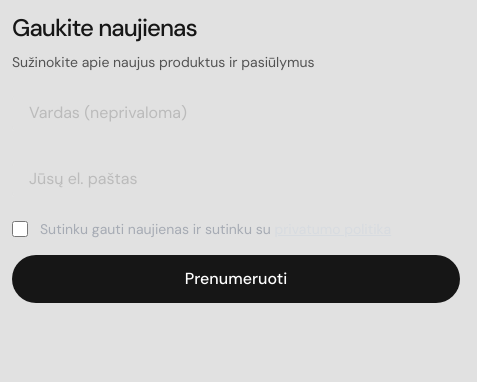
Test: NewsletterSignup › clears form after successful submission
Type "Jonas" into the field with placeholder "Vardas (neprivaloma)". click: (236, 113)
box: [12, 88, 460, 138]
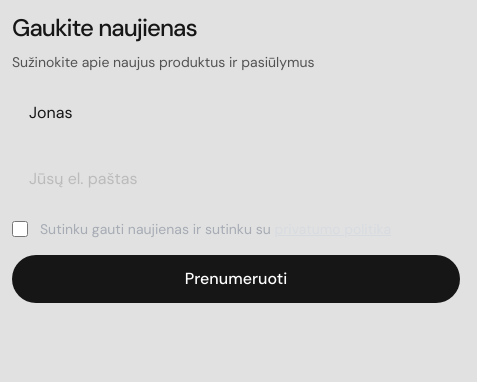
Type "test@example.com" into the field with placeholder "Jūsų el. paštas". click: (236, 179)
box: [12, 154, 460, 204]
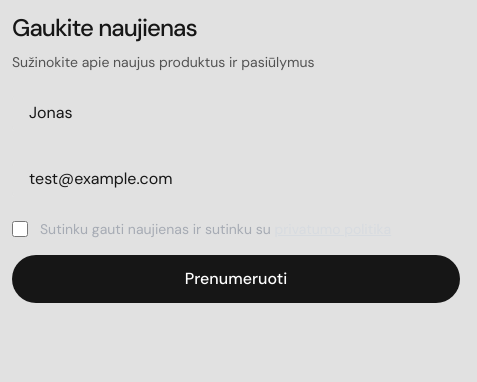
Click the checkbox. click: (20, 229)
box: [12, 221, 28, 237]
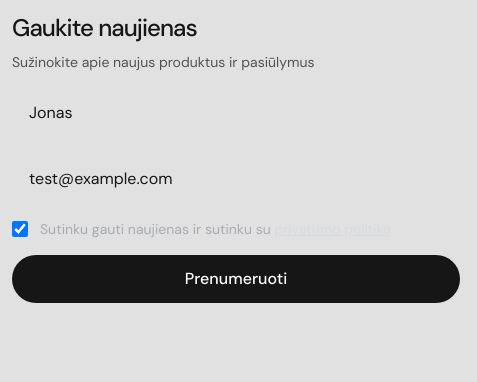
Click the button "Prenumeruoti". click: (236, 279)
box: [12, 255, 460, 303]
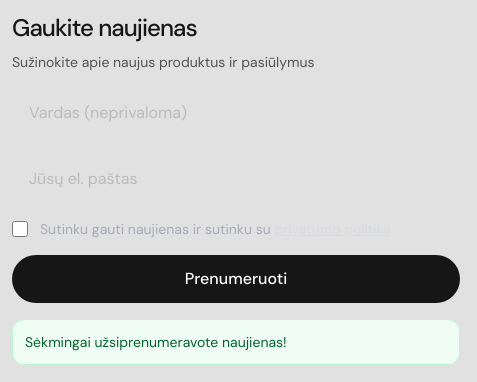
Result: the checkbox is not checked at [12, 221, 28, 237]
Result: the field with placeholder "Vardas (neprivaloma)" is empty at [12, 88, 460, 138]
Result: the field with placeholder "Jūsų el. paštas" is empty at [12, 154, 460, 204]
